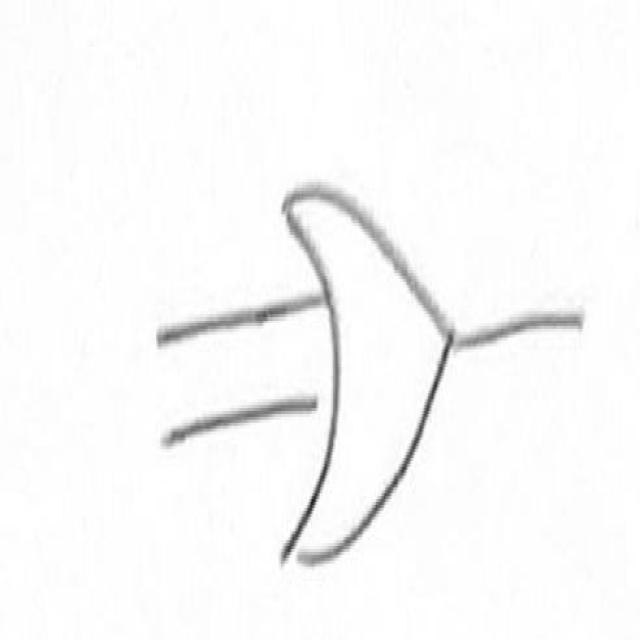OR: (258, 135, 468, 591)
